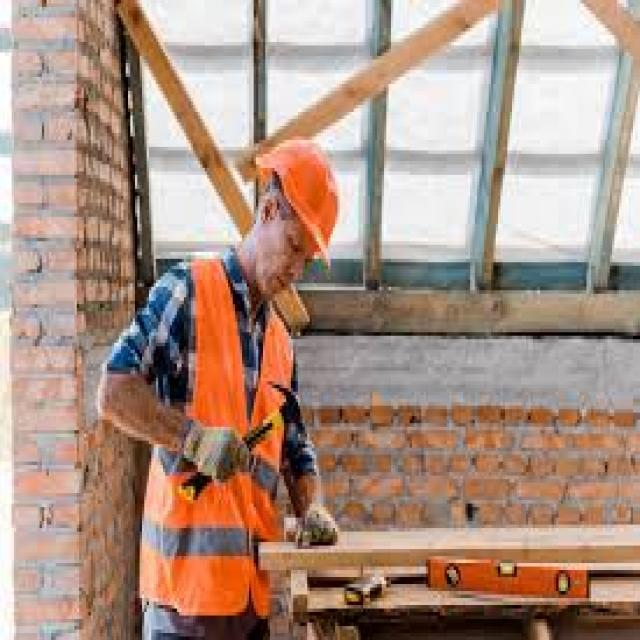hammer: (177, 369, 319, 523)
